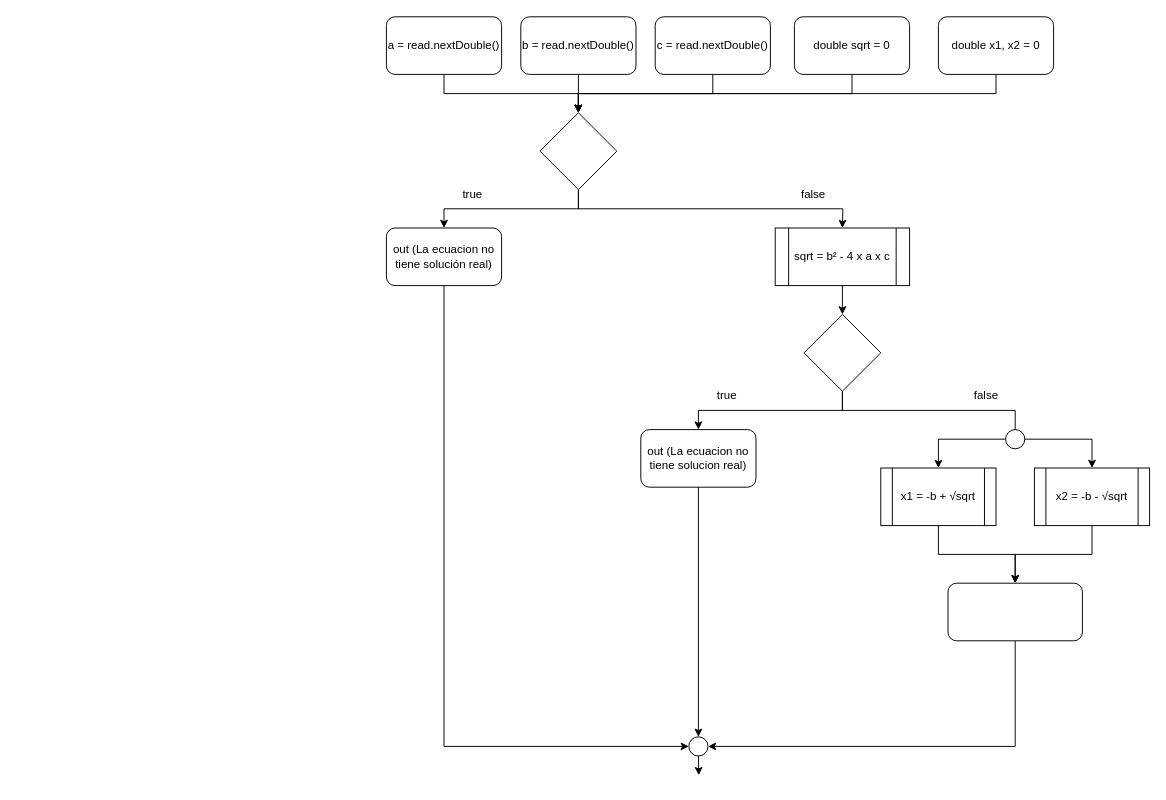
The diagram is 1166 pixels wide and 800 high, and some of its shapes have lost their labels. The centre of each missing label's shape, as x and y in pixels:
"if (a == 0)" goes at (x=578, y=151).
"if (sqrt < 0)" goes at (x=842, y=352).
"out (La ecuacion tiene 2 soluciones: x1, x2)" goes at (x=1014, y=611).
